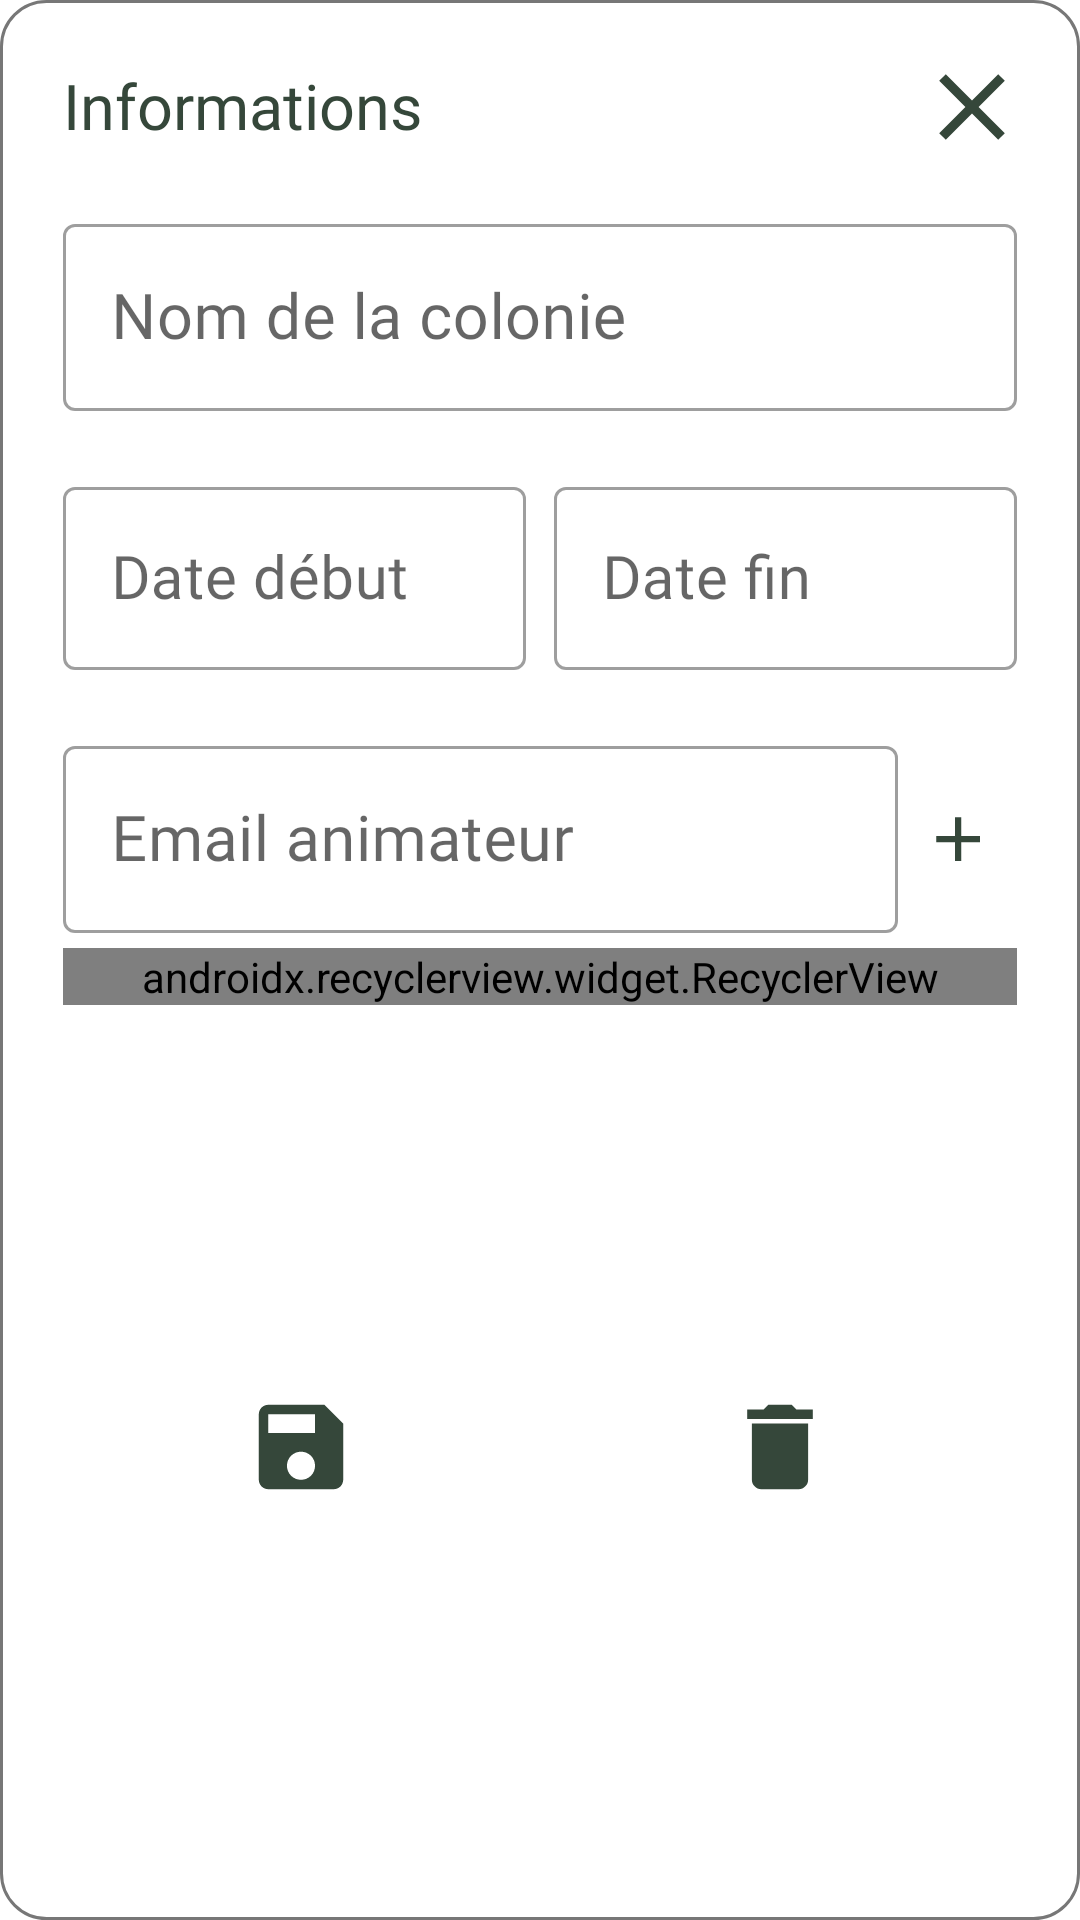

Named icons in this screenshot (1080x1920) and their centers, (x=x, y=y):
add: (x=958, y=839)
close: (x=972, y=107)
delete: (x=780, y=1447)
save: (x=301, y=1447)
